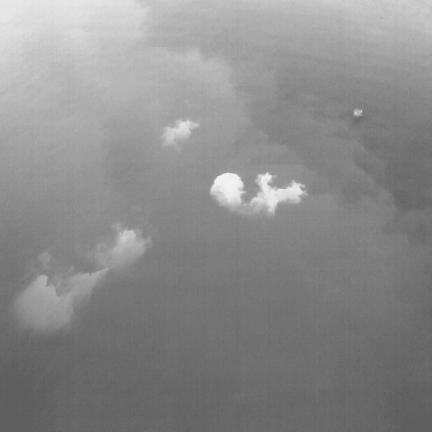flukeprints: (245, 173, 306, 214), (97, 229, 151, 267), (161, 120, 199, 150), (211, 174, 243, 209), (354, 109, 362, 116)
